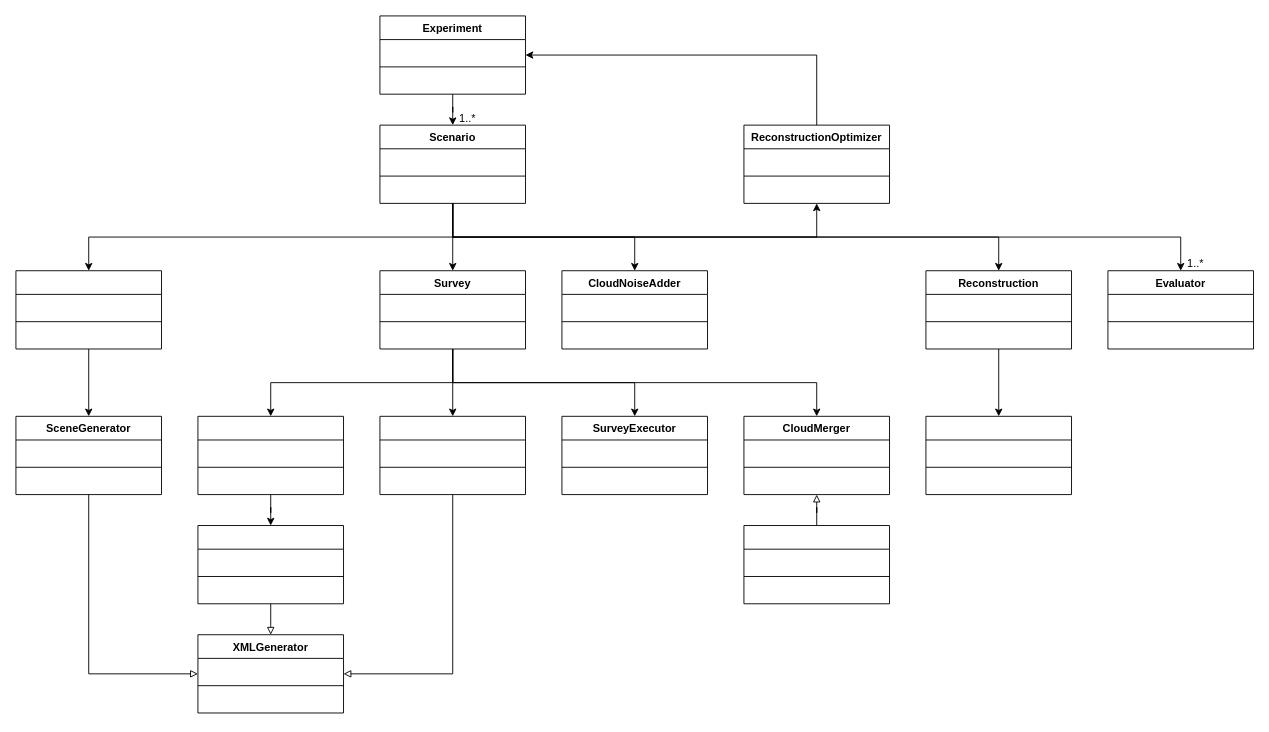
The diagram is 1269 pixels wide and 732 high, and some of its shapes have lost their labels. The box of each missing label's shape, as (x1, y1, x2, y2) in pixels:
FlightPath: (197, 415, 344, 495)
FlightPathGenerator: (197, 525, 344, 604)
ReconstructionExecutor: (925, 415, 1072, 495)
Scene: (15, 270, 162, 349)
SurveyGenerator: (379, 415, 526, 495)
UniqueKeeperMerger: (743, 525, 890, 604)
